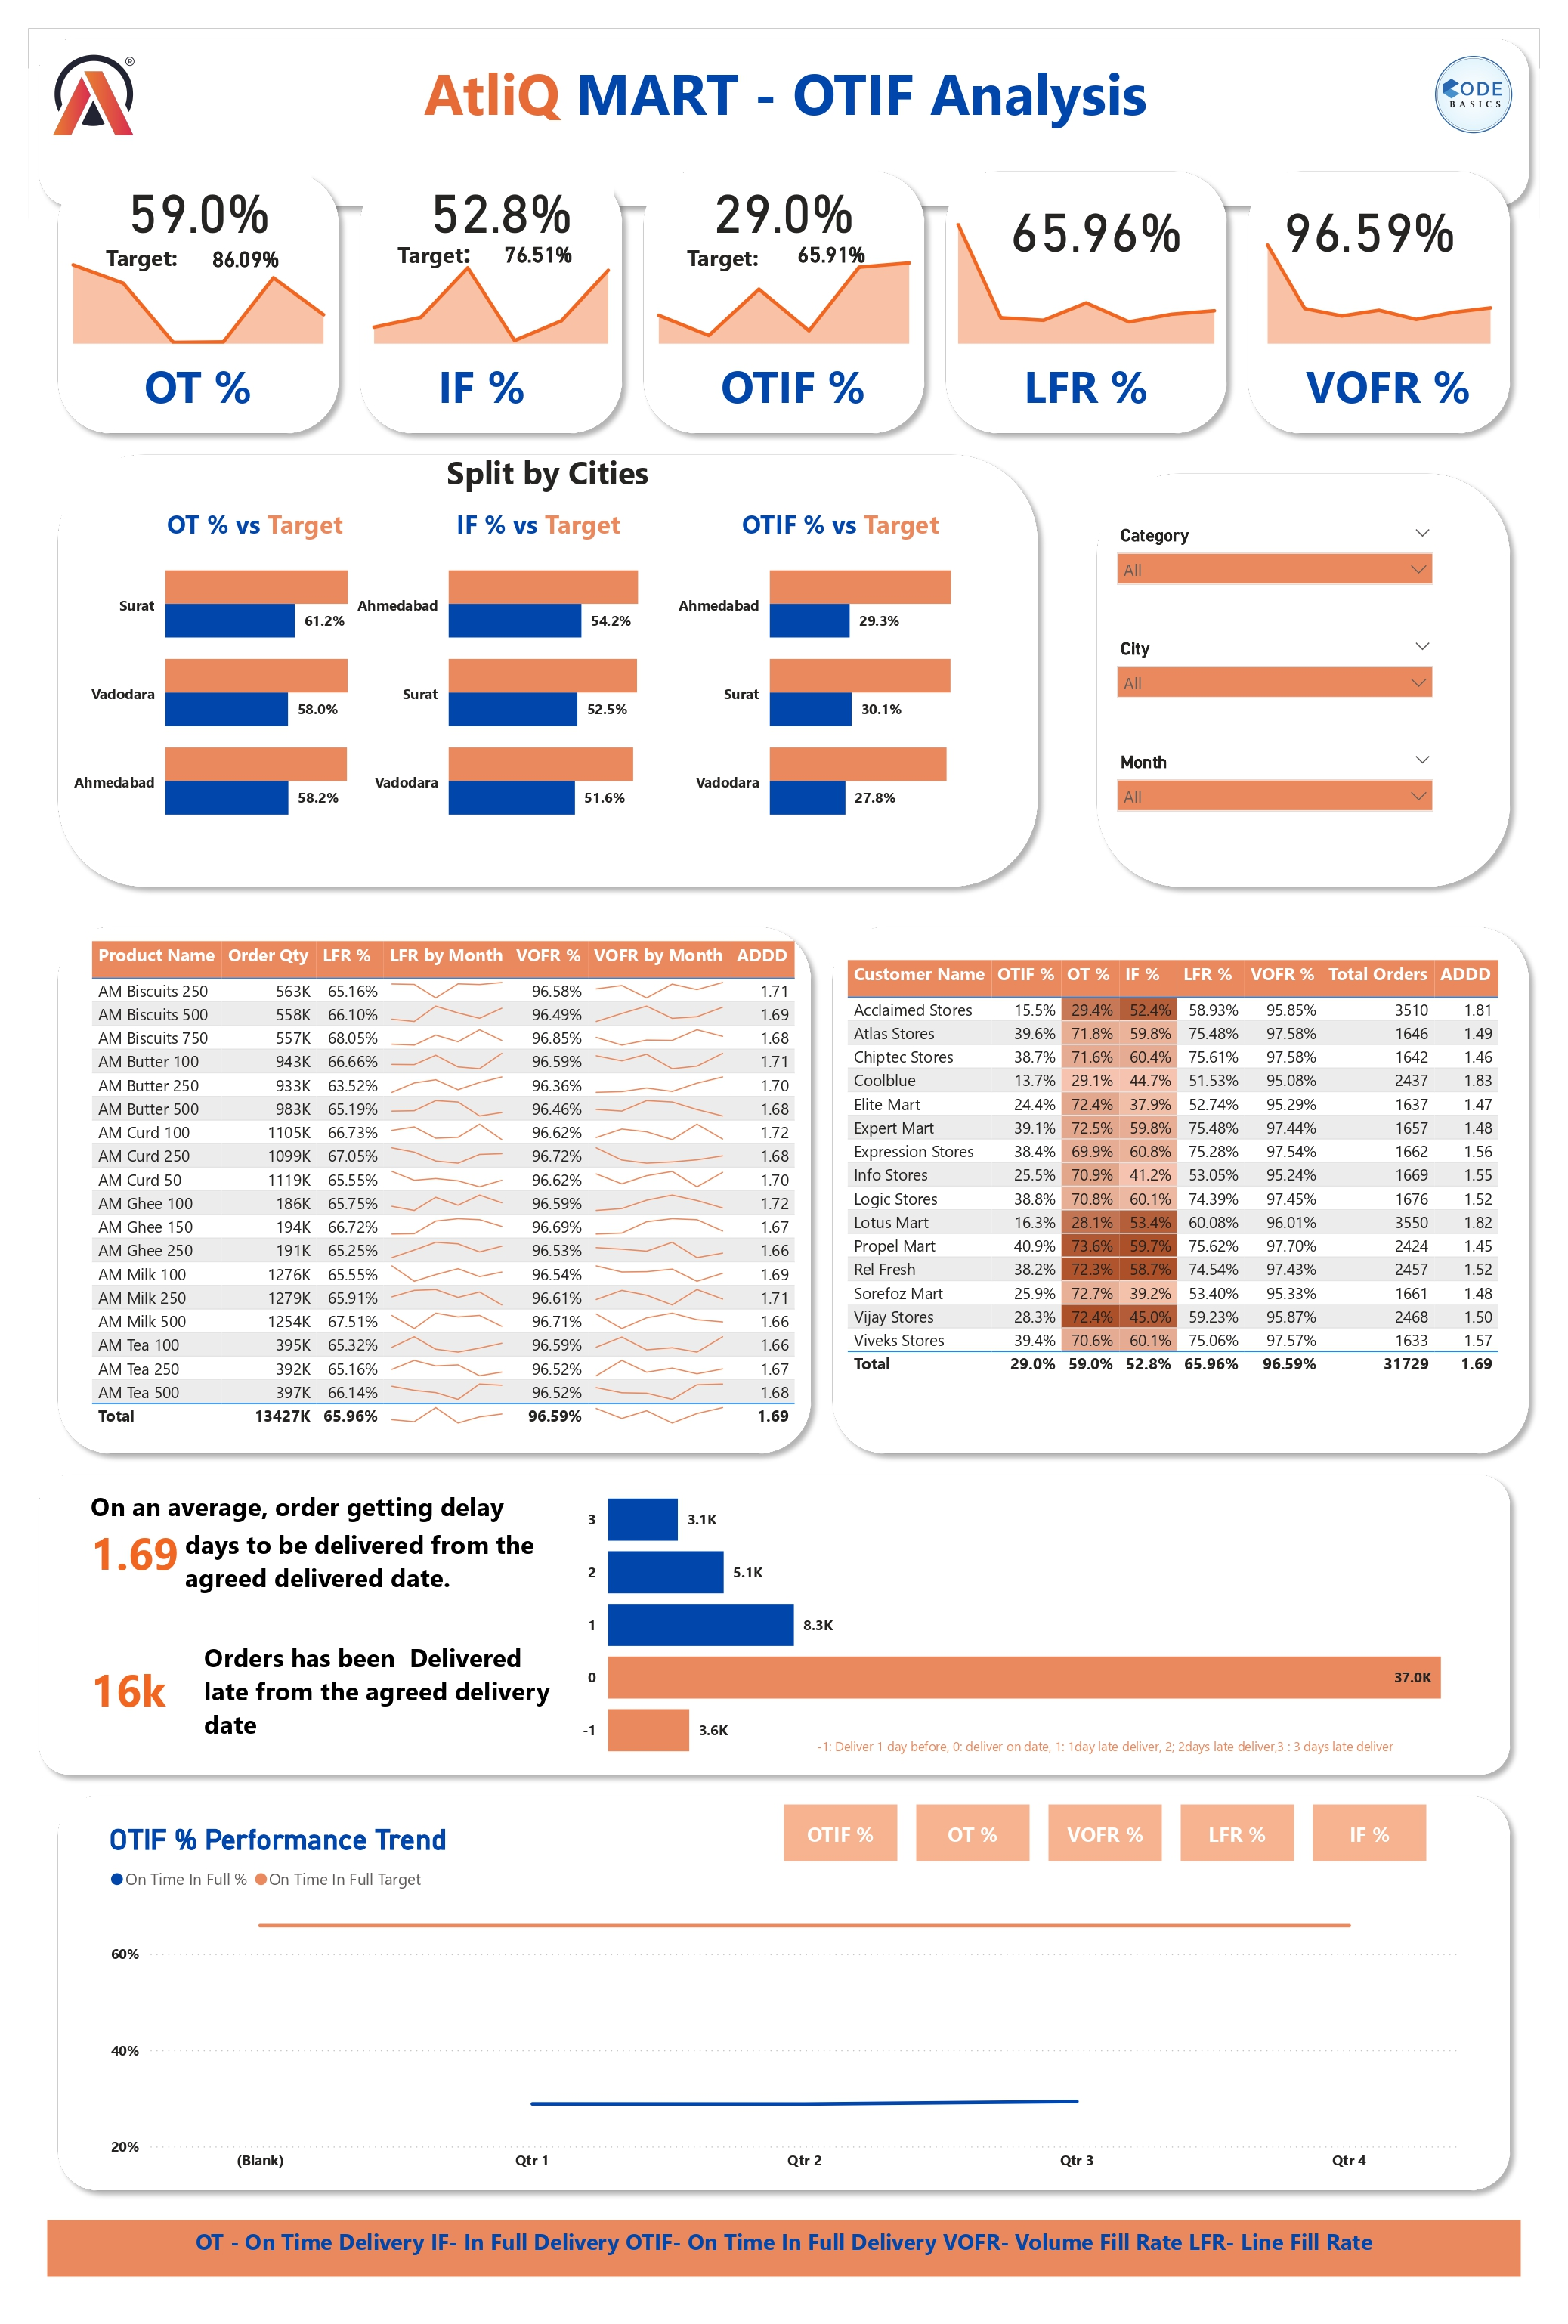

The dashboard page shown, as its layout file describes it:
{"tool":"powerbi","page":{"name":"Page 6","canvas":[1280,1920],"ordinal":0},"visuals":[{"type":"shape","box":[0,0,1280,160],"z":0},{"type":"image","box":[1184,16,80,80],"z":1000},{"type":"image","box":[16,16,80,80],"z":2000},{"type":"textbox","box":[304,16,688,80],"z":3000},{"type":"shape","box":[16,352,848,384],"z":4000},{"type":"shape","box":[16,752,656,464],"z":5000},{"type":"shape","box":[16,112,256,240],"z":6000,"group":"g1"},{"type":"shape","box":[672,752,608,464],"z":6000},{"type":"group","id":"g1","title":"Group 1","box":[16,112,1248,240],"z":7000},{"type":"shape","box":[272,112,240,240],"z":7000,"group":"g1"},{"type":"shape","box":[512,112,256,240],"z":8000,"group":"g1"},{"type":"shape","box":[0,1216,1264,272],"z":8000},{"type":"shape","box":[768,112,256,240],"z":9000,"group":"g1"},{"type":"shape","box":[16,1488,1248,352],"z":9000},{"type":"shape","box":[1024,112,240,240],"z":10000,"group":"g1"},{"type":"shape","box":[896,368,368,368],"z":10000},{"type":"card","fields":{"Values":["metrics.On Time Delivery %"]},"box":[48,112,192,80],"z":11000,"group":"g1"},{"type":"clusteredBarChart","fields":{"Category":["dim_customers.city"],"Y":["metrics.On Time Target","metrics.On Time Delivery %"]},"box":[32,416,288,288],"z":11000},{"type":"card","fields":{"Values":["metrics.In Full Delivery %"]},"box":[304,112,192,80],"z":12000,"group":"g1"},{"type":"clusteredBarChart","fields":{"Category":["dim_customers.city"],"Y":["metrics.On Time In Full Target","metrics.On Time In Full %"]},"box":[544,416,288,288],"z":12000},{"type":"card","fields":{"Values":["metrics.On Time In Full %"]},"box":[560,112,160,80],"z":13000,"group":"g1"},{"type":"clusteredBarChart","fields":{"Category":["dim_customers.city"],"Y":["metrics.In Full Target","metrics.In Full Delivery %"]},"box":[272,416,288,288],"z":13000},{"type":"card","fields":{"Values":["metrics.Line Fill Rate"]},"box":[816,128,176,80],"z":14000,"group":"g1"},{"type":"textbox","box":[288,352,304,48],"z":14000},{"type":"card","fields":{"Values":["metrics.Volume Fill Rate"]},"box":[1056,128,160,80],"z":15000,"group":"g1"},{"type":"textbox","box":[96,400,192,48],"z":15000},{"type":"card","title":"Target","fields":{"Values":["metrics.On Time Target"]},"box":[128,176,112,40],"z":16000,"group":"g1"},{"type":"textbox","box":[336,400,192,48],"z":16000},{"type":"card","fields":{"Values":["metrics.In Full Target"]},"box":[384,168,96,48],"z":17000,"group":"g1"},{"type":"textbox","box":[592,400,192,48],"z":17000},{"type":"card","fields":{"Values":["metrics.On Time In Full Target"]},"box":[632,168,96,48],"z":18000,"group":"g1"},{"type":"tableEx","fields":{"Values":["dim_products.product_name","Sum(fact_order_lines.order_qty)","metrics.Line Fill Rate","SparklineData(metrics.Line Fill Rate_[dim_date.date.Variation.Date Hierarchy.Month])","metrics.Volume Fill Rate","SparklineData(metrics.Volume Fill Rate_[dim_date.date.Variation.Date Hierarchy.Month])","metrics.ADDD"]},"box":[48,768,608,448],"z":18000},{"type":"textbox","box":[40,176,112,40],"z":19000,"group":"g1"},{"type":"tableEx","fields":{"Values":["dim_customers.customer_name","metrics.On Time In Full %","metrics.On Time Delivery %","metrics.In Full Delivery %","metrics.Line Fill Rate","metrics.Volume Fill Rate","metrics.Total Orders","metrics.ADDD"]},"box":[688,784,576,368],"z":19000},{"type":"textbox","box":[536,176,104,40],"z":20000,"group":"g1"},{"type":"barChart","fields":{"Category":["fact_order_lines.day delay"],"Y":["CountNonNull(fact_order_lines.order_id)"]},"box":[464,1232,768,240],"z":20000},{"type":"textbox","box":[280,168,128,56],"z":21000,"group":"g1"},{"type":"areaChart","fields":{"Y":["metrics.On Time Delivery %"],"Category":["dim_date.date.Variation.Date Hierarchy.Month"]},"box":[16,160,256,112],"z":22000,"group":"g1"},{"type":"actionButton","title":"OTIF %","box":[640,1504,96,48],"z":22000},{"type":"areaChart","fields":{"Category":["dim_date.date.Variation.Date Hierarchy.Month"],"Y":["metrics.In Full Delivery %"]},"box":[272,176,240,96],"z":23000,"group":"g1"},{"type":"actionButton","box":[752,1504,96,48],"z":23000},{"type":"areaChart","fields":{"Category":["dim_date.date.Variation.Date Hierarchy.Month"],"Y":["metrics.On Time In Full %"]},"box":[512,184,256,88],"z":24000,"group":"g1"},{"type":"actionButton","box":[864,1504,96,48],"z":24000},{"type":"areaChart","fields":{"Category":["dim_date.date.Variation.Date Hierarchy.Month"],"Y":["metrics.Volume Fill Rate"]},"box":[1032,144,224,128],"z":25000,"group":"g1"},{"type":"actionButton","box":[976,1504,96,48],"z":25000},{"type":"areaChart","fields":{"Category":["dim_date.date.Variation.Date Hierarchy.Month"],"Y":["metrics.Line Fill Rate"]},"box":[768,152,256,120],"z":26000,"group":"g1"},{"type":"actionButton","box":[1088,1504,96,48],"z":26000},{"type":"textbox","box":[80,272,128,64],"z":27000,"group":"g1"},{"type":"textbox","box":[320,272,128,64],"z":28000,"group":"g1"},{"type":"lineChart","title":"OTIF % Performance Trend","fields":{"Category":["dim_date.date.Variation.Date Hierarchy.Quarter"],"Y":["metrics.On Time In Full %","metrics.On Time In Full Target"]},"box":[64,1520,1152,304],"z":28000},{"type":"textbox","box":[576,272,144,64],"z":29000,"group":"g1"},{"type":"textbox","box":[832,272,128,64],"z":30000,"group":"g1"},{"type":"textbox","box":[1072,272,160,64],"z":31000,"group":"g1"},{"type":"textbox","box":[48,1232,432,96],"z":31000},{"type":"textbox","box":[48,1376,96,64],"z":32000},{"type":"textbox","box":[144,1360,304,112],"z":33000},{"type":"textbox","box":[128,1264,320,96],"z":34000},{"type":"textbox","box":[16,1856,1248,48],"z":35000},{"type":"textbox","box":[608,1440,608,32],"z":36000},{"type":"slicer","fields":{"Values":["dim_products.category"]},"box":[912,416,288,64],"z":37000},{"type":"slicer","fields":{"Values":["dim_customers.city"]},"box":[912,512,288,64],"z":38000},{"type":"slicer","fields":{"Values":["dim_date.date.Variation.Date Hierarchy.Month"]},"box":[912,608,288,64],"z":39000}]}

Visuals, with their boxes on the page's 1280x1920 design canvas (x1, y1, x2, y2). These are canvas units, not pixel positions in the 1568x2324 screenshot, which may show the page scaled, cropped or inside an application window:
shape: x1=0 y1=0 x2=1280 y2=160
image: x1=1184 y1=16 x2=1264 y2=96
image: x1=16 y1=16 x2=96 y2=96
textbox: x1=304 y1=16 x2=992 y2=96
shape: x1=16 y1=352 x2=864 y2=736
shape: x1=16 y1=752 x2=672 y2=1216
shape: x1=16 y1=112 x2=272 y2=352
shape: x1=672 y1=752 x2=1280 y2=1216
"Group 1" group: x1=16 y1=112 x2=1264 y2=352
shape: x1=272 y1=112 x2=512 y2=352
shape: x1=512 y1=112 x2=768 y2=352
shape: x1=0 y1=1216 x2=1264 y2=1488
shape: x1=768 y1=112 x2=1024 y2=352
shape: x1=16 y1=1488 x2=1264 y2=1840
shape: x1=1024 y1=112 x2=1264 y2=352
shape: x1=896 y1=368 x2=1264 y2=736
card - metrics.On Time Delivery %: x1=48 y1=112 x2=240 y2=192
clusteredBarChart - dim_customers.city x metrics.On Time Target: x1=32 y1=416 x2=320 y2=704
card - metrics.In Full Delivery %: x1=304 y1=112 x2=496 y2=192
clusteredBarChart - dim_customers.city x metrics.On Time In Full Target: x1=544 y1=416 x2=832 y2=704
card - metrics.On Time In Full %: x1=560 y1=112 x2=720 y2=192
clusteredBarChart - dim_customers.city x metrics.In Full Target: x1=272 y1=416 x2=560 y2=704
card - metrics.Line Fill Rate: x1=816 y1=128 x2=992 y2=208
textbox: x1=288 y1=352 x2=592 y2=400
card - metrics.Volume Fill Rate: x1=1056 y1=128 x2=1216 y2=208
textbox: x1=96 y1=400 x2=288 y2=448
"Target" card: x1=128 y1=176 x2=240 y2=216
textbox: x1=336 y1=400 x2=528 y2=448
card - metrics.In Full Target: x1=384 y1=168 x2=480 y2=216
textbox: x1=592 y1=400 x2=784 y2=448
card - metrics.On Time In Full Target: x1=632 y1=168 x2=728 y2=216
tableEx - dim_products.product_name x Sum(fact_order_lines.order_qty): x1=48 y1=768 x2=656 y2=1216
textbox: x1=40 y1=176 x2=152 y2=216
tableEx - dim_customers.customer_name x metrics.On Time In Full %: x1=688 y1=784 x2=1264 y2=1152
textbox: x1=536 y1=176 x2=640 y2=216
barChart - fact_order_lines.day delay x CountNonNull(fact_order_lines.order_id): x1=464 y1=1232 x2=1232 y2=1472
textbox: x1=280 y1=168 x2=408 y2=224
areaChart - metrics.On Time Delivery % x dim_date.date.Variation.Date Hierarchy.Month: x1=16 y1=160 x2=272 y2=272
"OTIF %" actionButton: x1=640 y1=1504 x2=736 y2=1552
areaChart - dim_date.date.Variation.Date Hierarchy.Month x metrics.In Full Delivery %: x1=272 y1=176 x2=512 y2=272
actionButton: x1=752 y1=1504 x2=848 y2=1552
areaChart - dim_date.date.Variation.Date Hierarchy.Month x metrics.On Time In Full %: x1=512 y1=184 x2=768 y2=272
actionButton: x1=864 y1=1504 x2=960 y2=1552
areaChart - dim_date.date.Variation.Date Hierarchy.Month x metrics.Volume Fill Rate: x1=1032 y1=144 x2=1256 y2=272
actionButton: x1=976 y1=1504 x2=1072 y2=1552
areaChart - dim_date.date.Variation.Date Hierarchy.Month x metrics.Line Fill Rate: x1=768 y1=152 x2=1024 y2=272
actionButton: x1=1088 y1=1504 x2=1184 y2=1552
textbox: x1=80 y1=272 x2=208 y2=336
textbox: x1=320 y1=272 x2=448 y2=336
"OTIF % Performance Trend" lineChart: x1=64 y1=1520 x2=1216 y2=1824
textbox: x1=576 y1=272 x2=720 y2=336
textbox: x1=832 y1=272 x2=960 y2=336
textbox: x1=1072 y1=272 x2=1232 y2=336
textbox: x1=48 y1=1232 x2=480 y2=1328
textbox: x1=48 y1=1376 x2=144 y2=1440
textbox: x1=144 y1=1360 x2=448 y2=1472
textbox: x1=128 y1=1264 x2=448 y2=1360
textbox: x1=16 y1=1856 x2=1264 y2=1904
textbox: x1=608 y1=1440 x2=1216 y2=1472
slicer - dim_products.category: x1=912 y1=416 x2=1200 y2=480
slicer - dim_customers.city: x1=912 y1=512 x2=1200 y2=576
slicer - dim_date.date.Variation.Date Hierarchy.Month: x1=912 y1=608 x2=1200 y2=672
